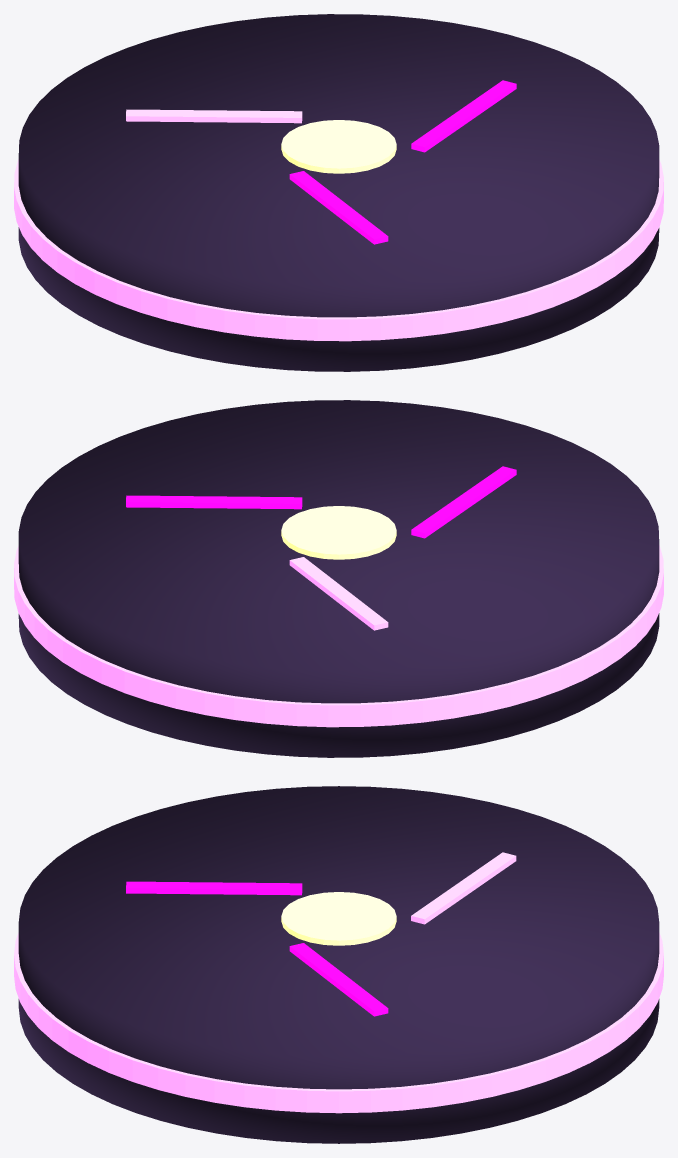
File: disco_gravity_volley.glb
The picture shows the model from 3 angles, top to bottom: view 1: azimuth 30°, elevation 25°; view 2: azimuth 150°, elevation 25°; view 3: azimuth 270°, elevation 25°; orthographic projection.
Parts seen in each view (by area): view 1: Cylinder, Cylinder.001, Cylinder.002, Cube.001, Cube, Cube.002; view 2: Cylinder, Cylinder.001, Cylinder.002, Cube, Cube.002, Cube.001; view 3: Cylinder, Cylinder.001, Cylinder.002, Cube.002, Cube.001, Cube.
Part boxes in pixels (box(x1,y1,x2,y2)): Cylinder: box(18, 14, 659, 371); Cylinder.001: box(14, 159, 663, 341); Cylinder.002: box(281, 120, 396, 173); Cube.001: box(126, 109, 302, 123); Cube: box(411, 80, 516, 152); Cube.002: box(289, 171, 388, 244); Cylinder: box(18, 400, 659, 757); Cylinder.001: box(14, 545, 663, 727); Cylinder.002: box(281, 506, 396, 559); Cube: box(126, 495, 302, 509); Cube.002: box(411, 466, 516, 538); Cube.001: box(289, 557, 388, 630); Cylinder: box(18, 786, 659, 1143); Cylinder.001: box(14, 932, 663, 1113); Cylinder.002: box(281, 892, 396, 945); Cube.002: box(126, 881, 302, 895); Cube.001: box(411, 852, 516, 924); Cube: box(289, 943, 388, 1016).
Size of the model in its own units: 0.1015 by 0.0168 by 0.1015.
